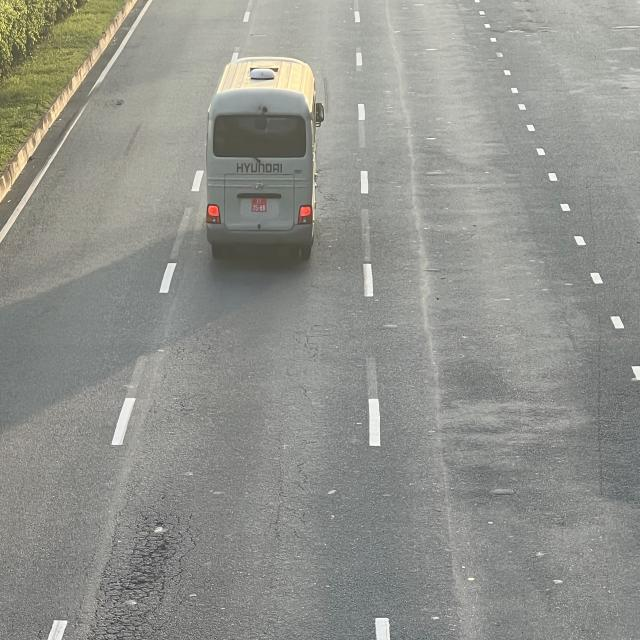coach: (206, 58, 327, 261)
